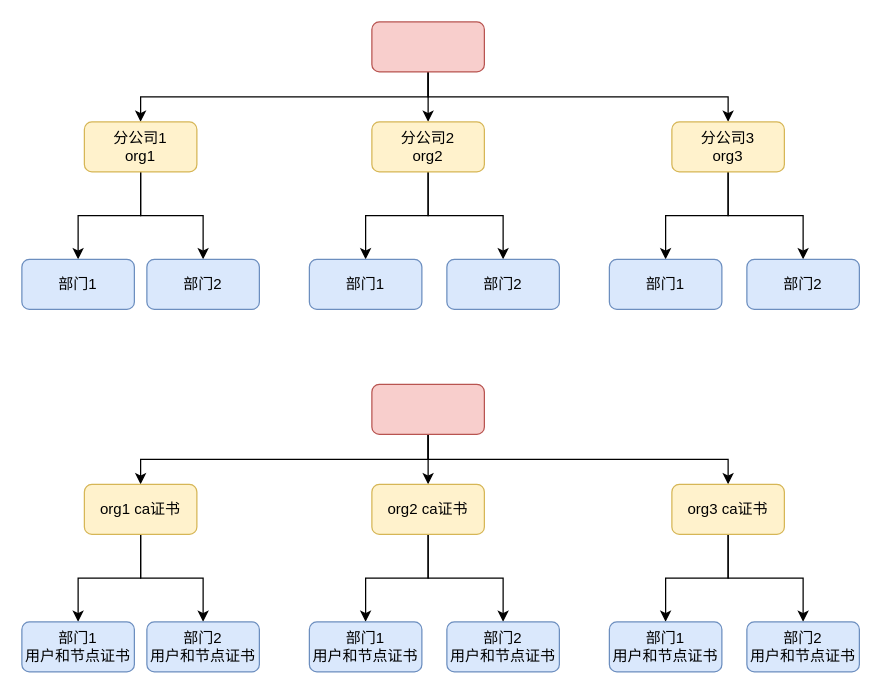
Some shapes in this 881 by 694 pixel diagram are drawn without their labels. Here are the shapes that lost their labels. From the top down, the centre of each, then its label:
At (x=427, y=46): "集团（chain）".
At (x=427, y=408): "root证书".
